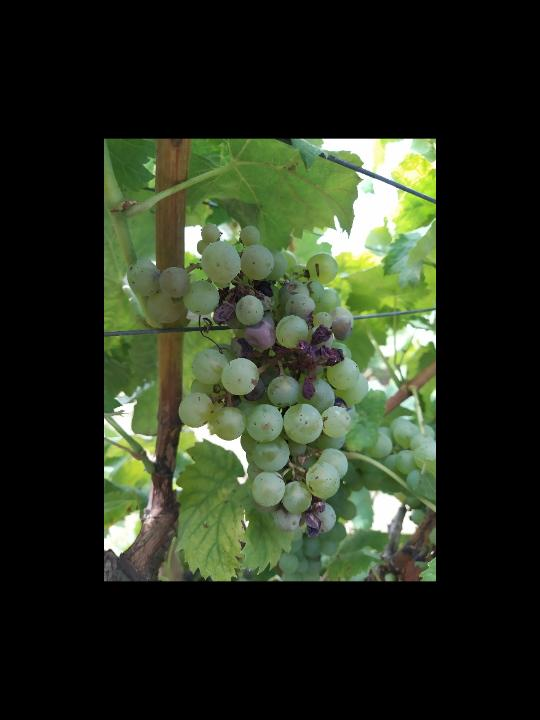grape: (125, 222, 371, 540)
